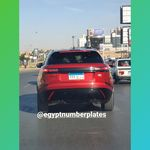carpl: (68, 73, 86, 79)
